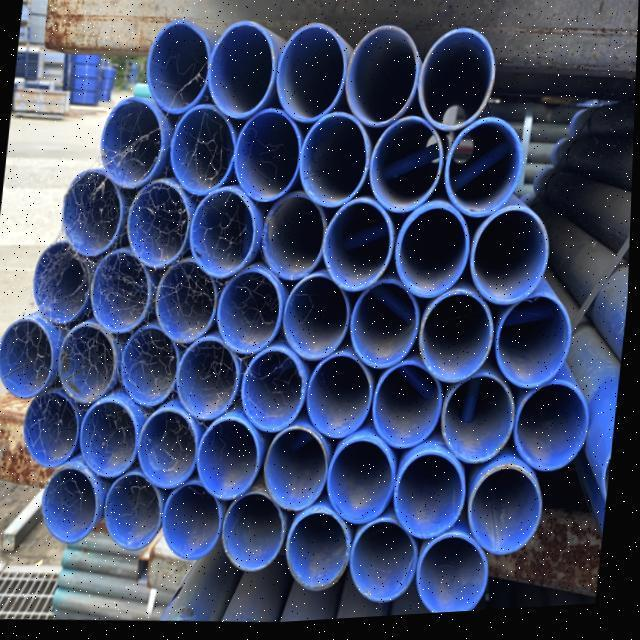pipe: (414, 34, 497, 137), (468, 210, 552, 310), (338, 28, 419, 129), (271, 26, 351, 126), (447, 121, 524, 222), (495, 300, 576, 395), (361, 366, 447, 453), (206, 22, 279, 124), (136, 26, 214, 121), (417, 296, 496, 389), (298, 113, 370, 213), (395, 208, 472, 300), (370, 120, 443, 217), (513, 388, 589, 481), (231, 111, 303, 207), (442, 378, 517, 467), (187, 187, 259, 279), (321, 203, 392, 296), (156, 259, 227, 352), (345, 287, 420, 374), (393, 455, 466, 544), (469, 472, 543, 559), (97, 98, 163, 192), (242, 350, 312, 437), (282, 278, 350, 367), (212, 273, 284, 357), (126, 178, 192, 269), (261, 193, 328, 282), (309, 357, 375, 447), (418, 539, 491, 619), (169, 109, 236, 196), (327, 443, 395, 528), (351, 527, 422, 607), (60, 168, 122, 258), (198, 417, 262, 504), (267, 430, 331, 516), (55, 322, 118, 406), (138, 410, 200, 495), (286, 515, 351, 596), (178, 339, 242, 420), (87, 251, 147, 337), (223, 496, 288, 575), (32, 240, 92, 324), (121, 326, 181, 408), (166, 481, 225, 564), (0, 316, 56, 403), (78, 398, 137, 480), (24, 388, 80, 471), (107, 473, 165, 553), (43, 467, 100, 545)
